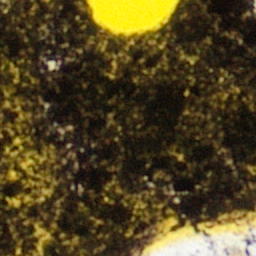air_pores: (84, 0, 181, 38)
cement_matrix: (0, 0, 255, 255), (38, 229, 47, 241), (23, 157, 31, 168), (51, 62, 55, 67)
gravel_crushed_stones: (135, 212, 255, 255), (39, 230, 46, 240), (24, 158, 30, 167), (52, 63, 54, 66)
